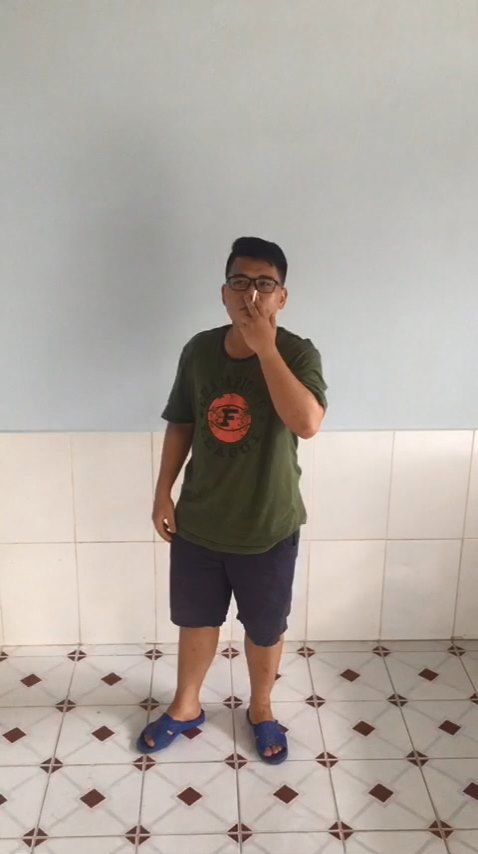cigarette: (249, 286, 264, 309)
person: (127, 216, 358, 806)
